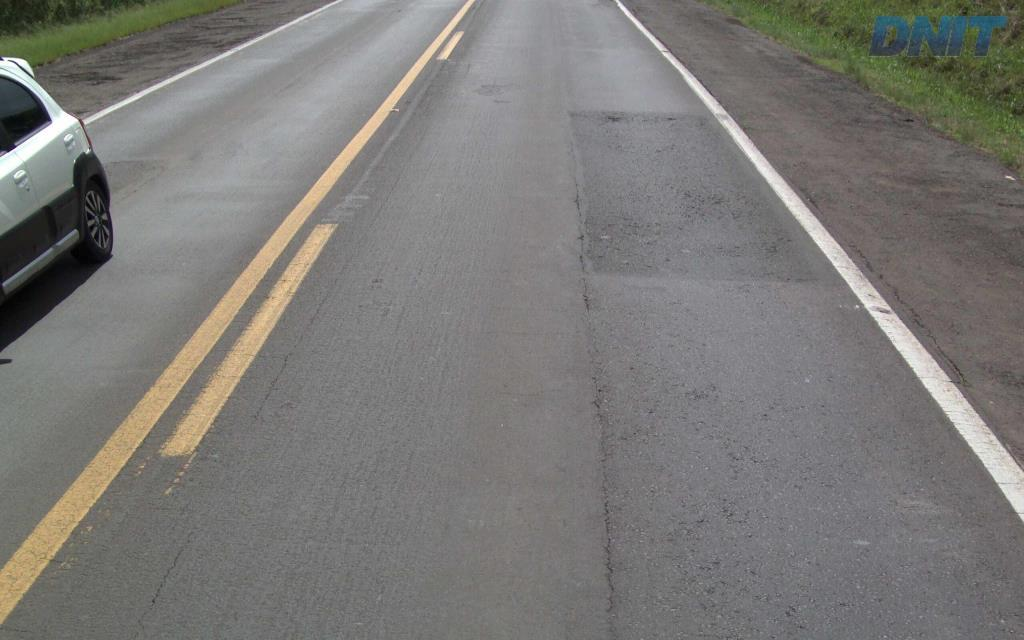crack: (603, 536, 618, 613)
